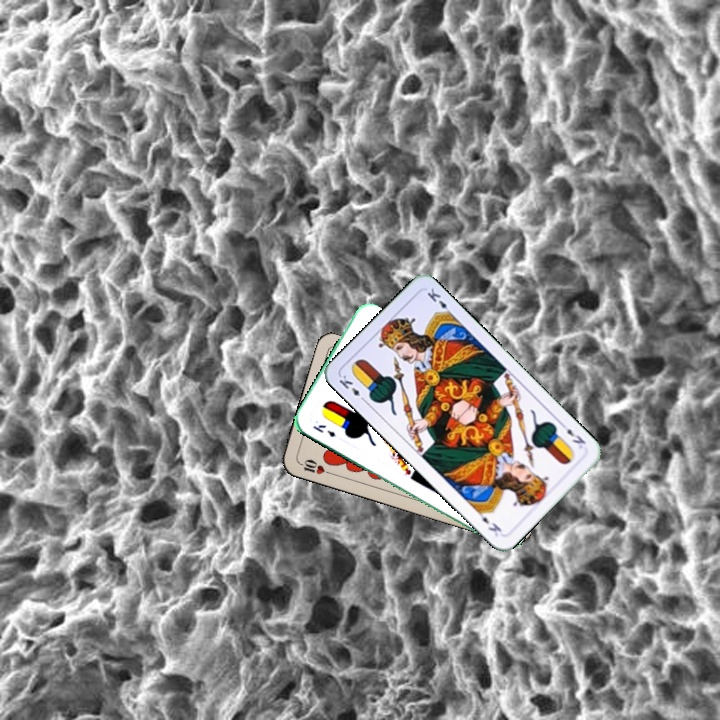EK: (335, 371, 369, 405), (556, 419, 588, 451), (308, 420, 338, 440)
H10: (295, 455, 335, 477)
